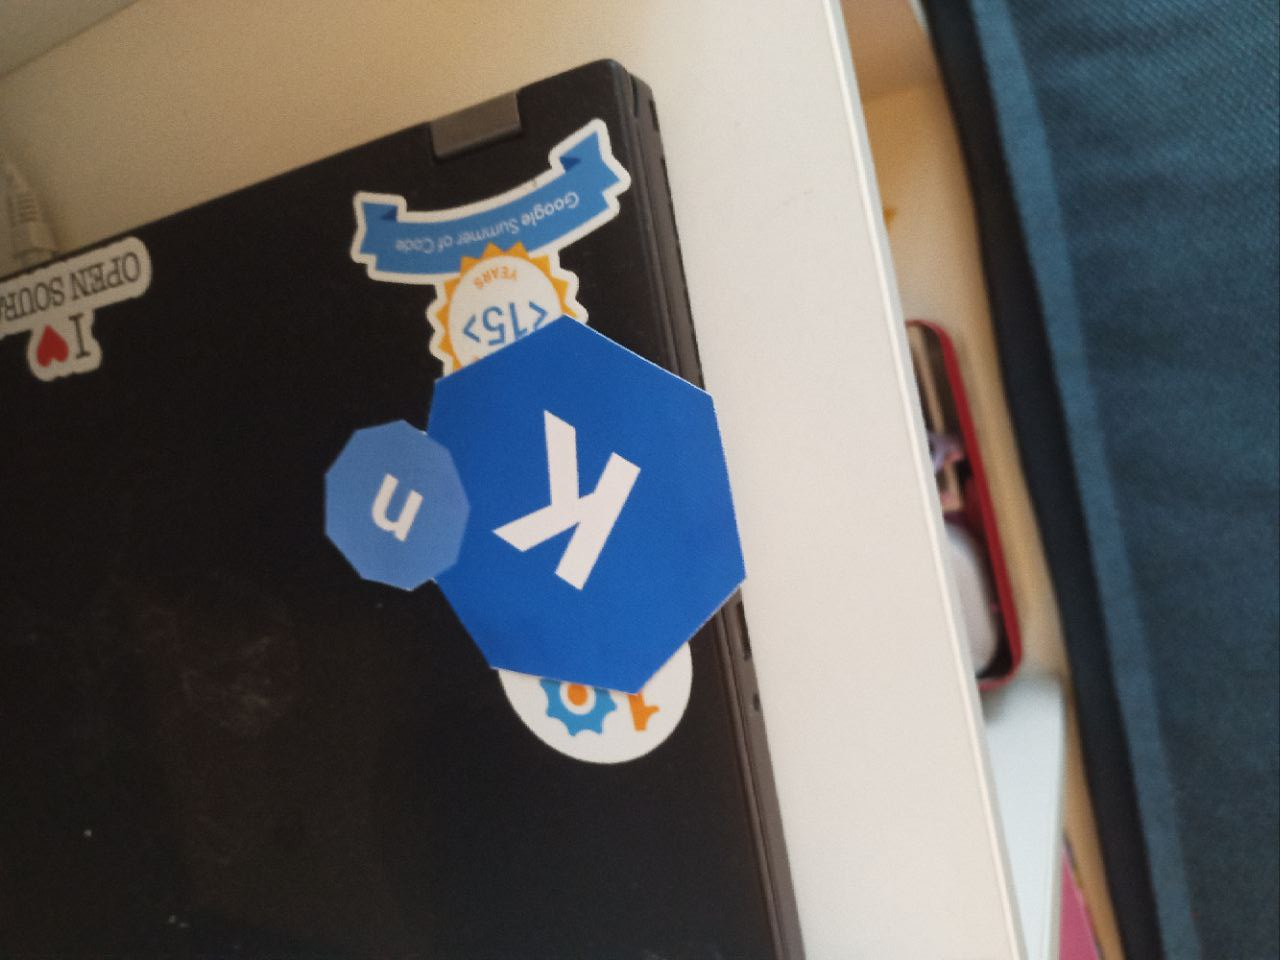knative: (324, 315, 747, 696)
